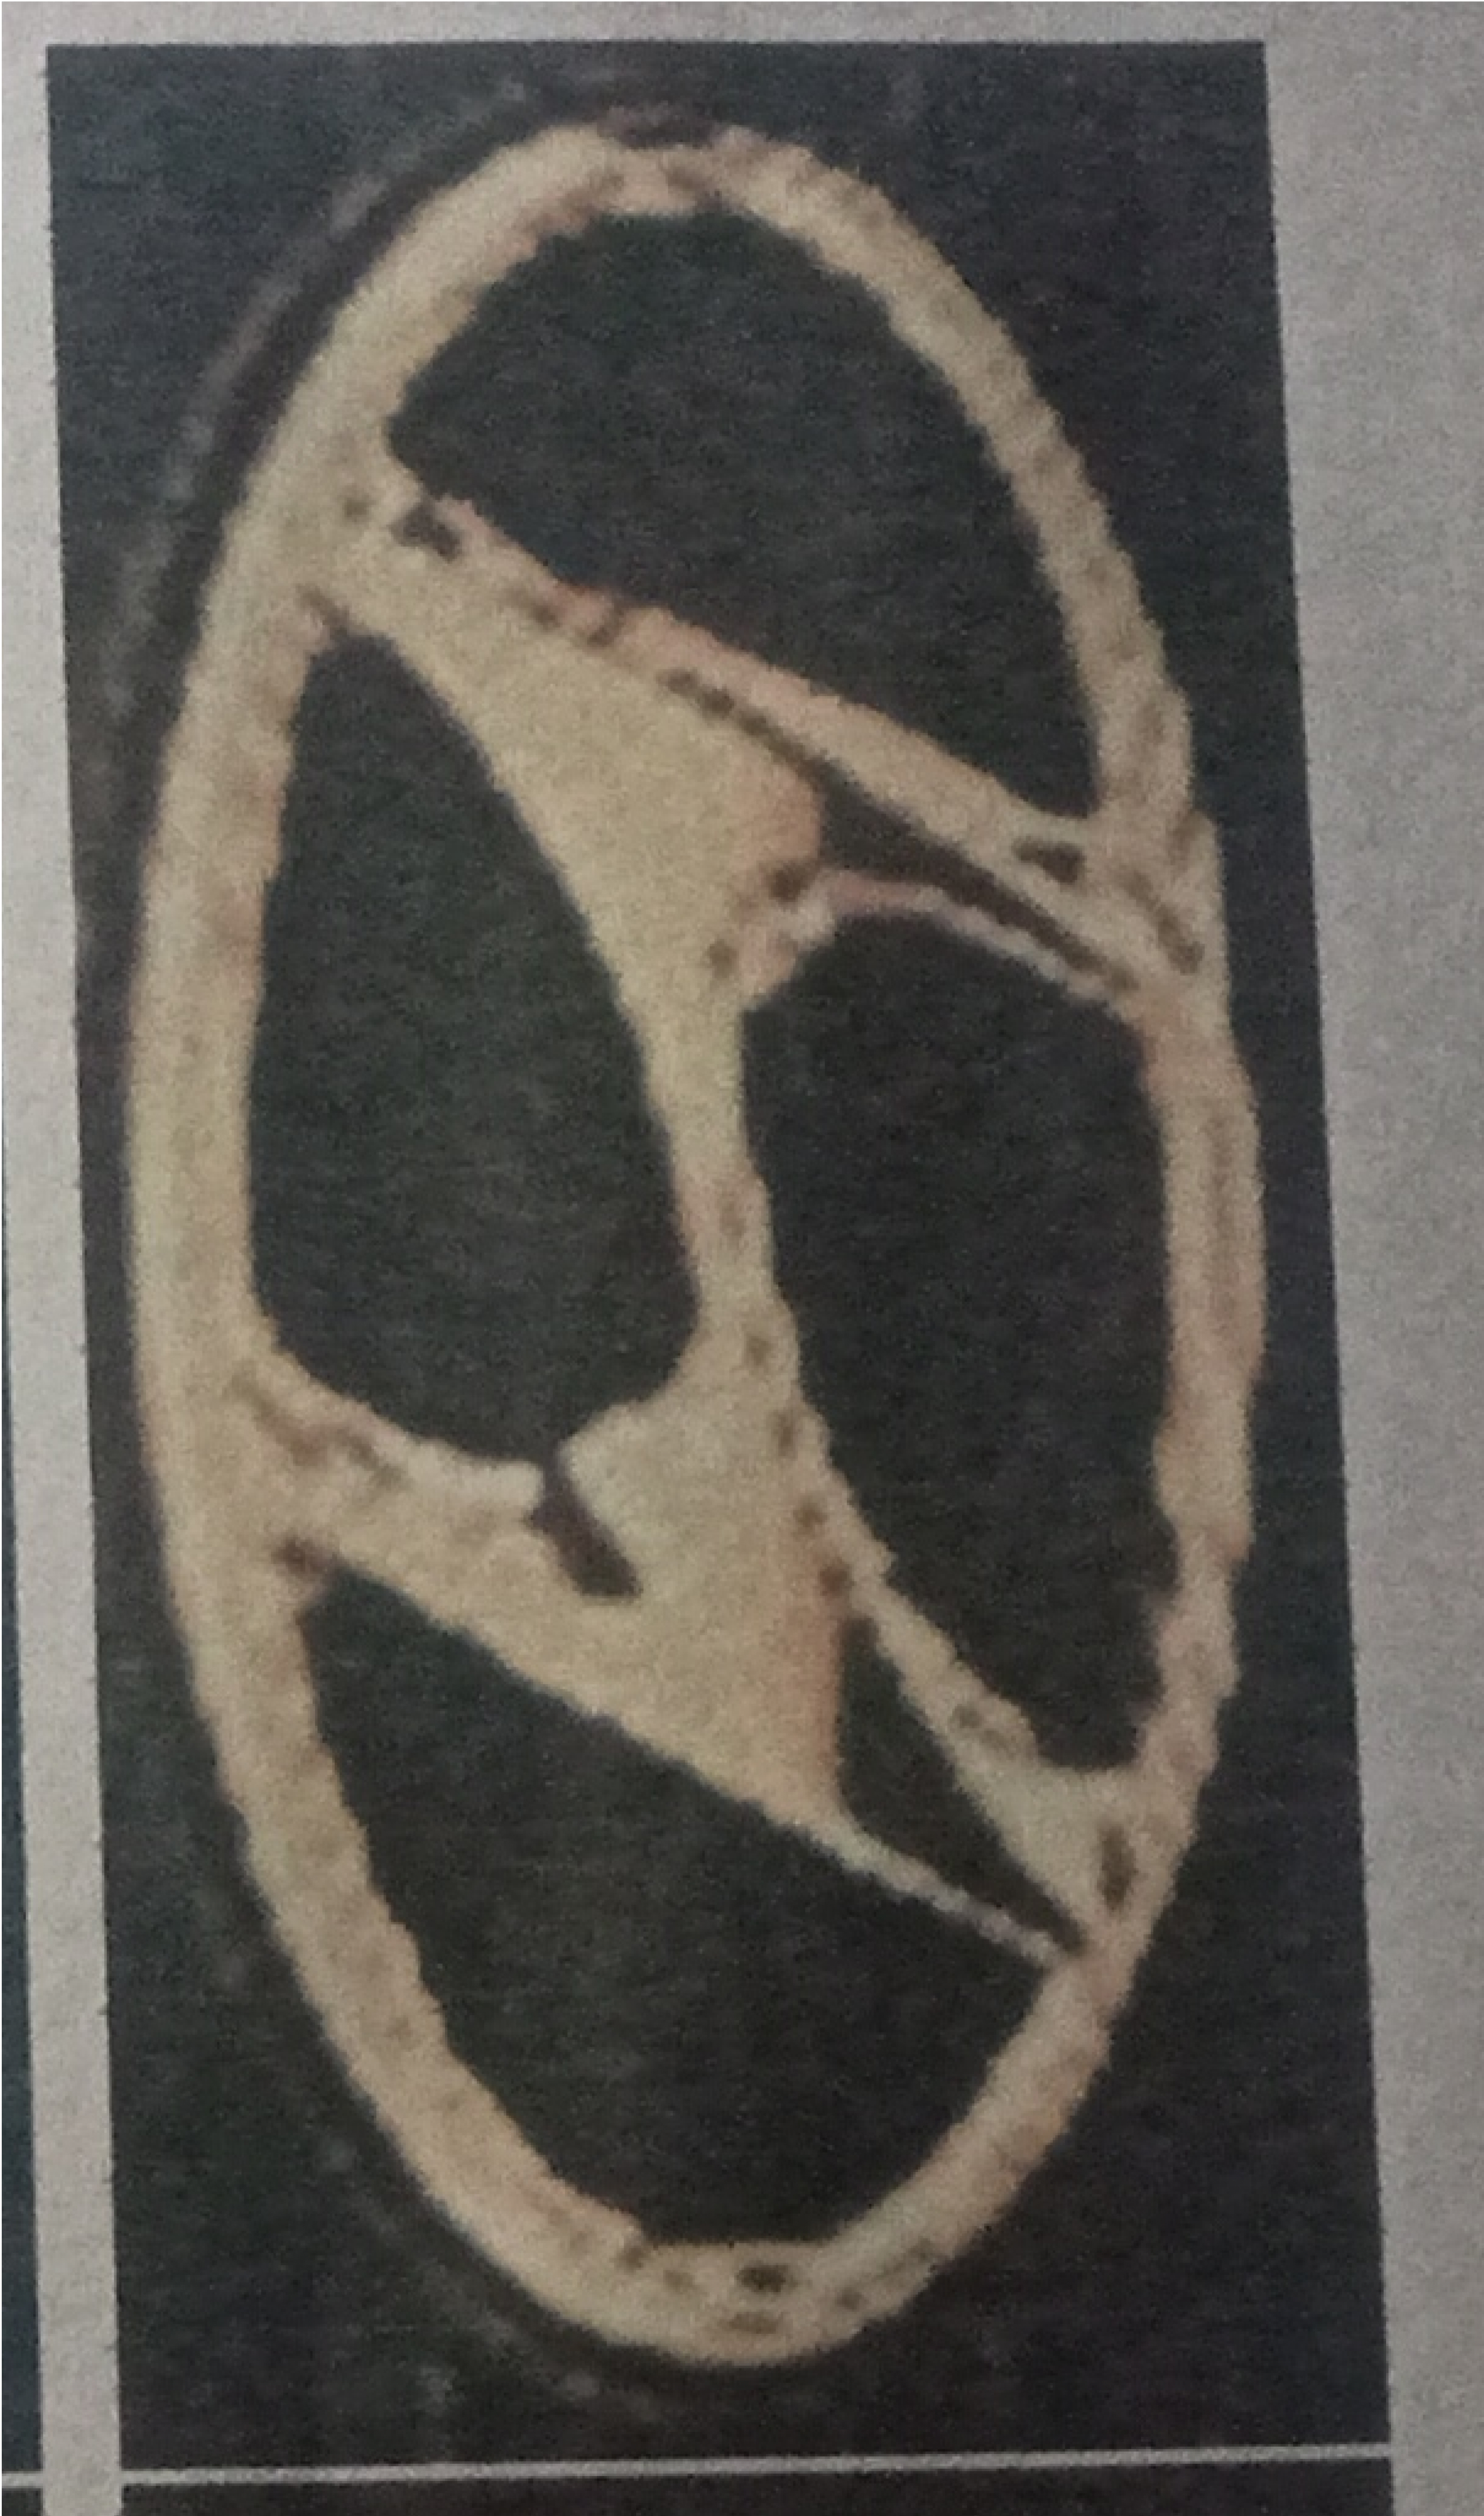Hyundai: (21, 14, 1362, 2484)
